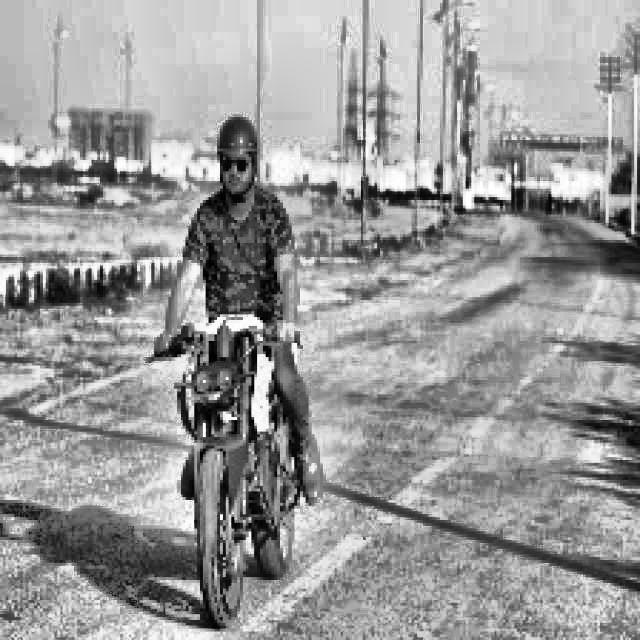motorcycle: (143, 296, 348, 629)
